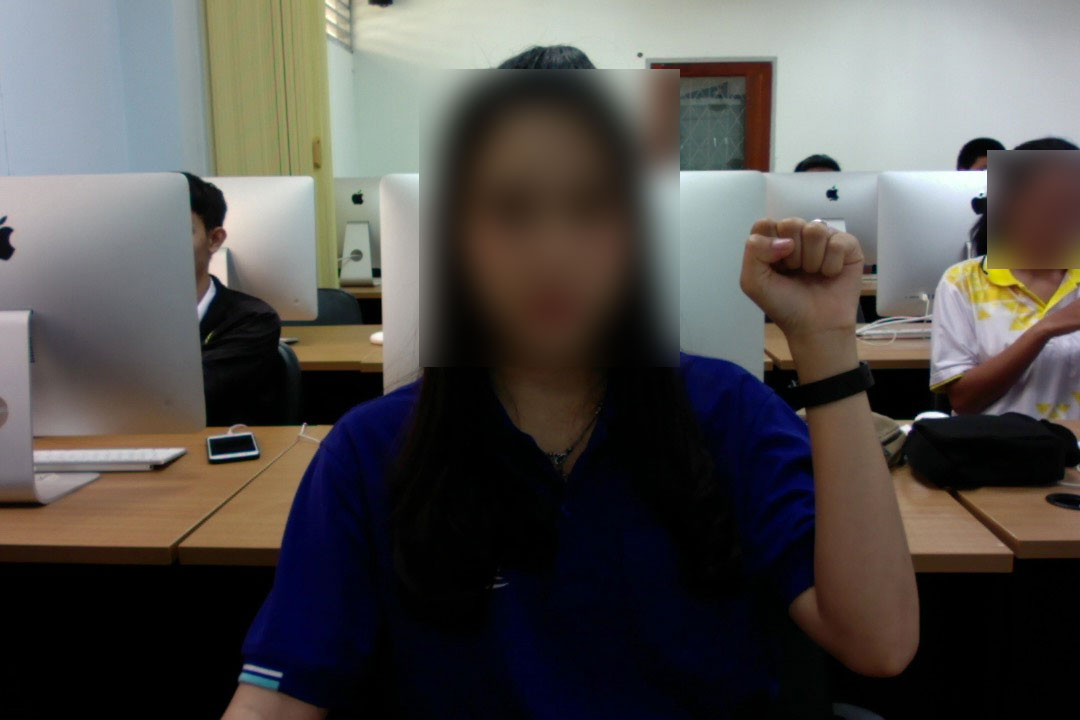sor: (735, 209, 868, 356)
